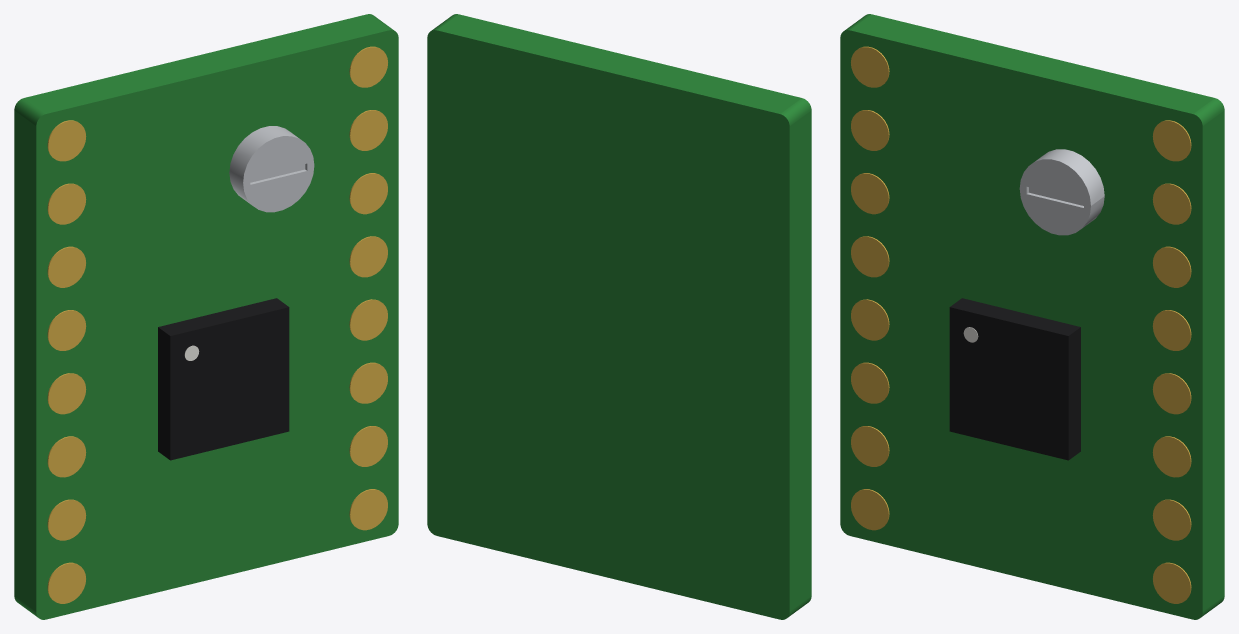
Rendered from pololu-1182-a4988.glb.
3 views of the same model, side by side, from view 1: azimuth 30°, elevation 25°; view 2: azimuth 150°, elevation 25°; view 3: azimuth 330°, elevation 25° (orthographic).
Parts seen in each view (by area): view 1: board, chip_3, trimmer_4, pads_2_5, pads_1_8, pads_2_3, pads_2_8, pads_1_3, pads_2_4, pads_1_2, pads_1_4, pads_1_7 (+7 smaller); view 2: board; view 3: board, chip_3, trimmer_4, pads_1_5, pads_1_3, pads_2_8, pads_1_8, pads_2_3, pads_1_4, pads_2_2, pads_2_4, pads_2_7 (+7 smaller).
Part boxes in pixels (bbox=[...]): board: bbox=[14, 14, 398, 619]; chip_3: bbox=[158, 298, 289, 460]; trimmer_4: bbox=[229, 126, 314, 212]; pads_2_5: bbox=[349, 236, 387, 277]; pads_1_8: bbox=[47, 120, 86, 161]; pads_2_3: bbox=[349, 362, 387, 403]; pads_2_8: bbox=[349, 46, 387, 87]; pads_1_3: bbox=[47, 436, 86, 477]; pads_2_4: bbox=[349, 299, 387, 340]; pads_1_2: bbox=[47, 499, 86, 540]; pads_1_4: bbox=[47, 373, 86, 414]; pads_1_7: bbox=[47, 183, 86, 224]; board: bbox=[427, 14, 811, 619]; board: bbox=[840, 14, 1224, 619]; chip_3: bbox=[949, 298, 1080, 460]; trimmer_4: bbox=[1019, 149, 1104, 235]; pads_1_5: bbox=[851, 236, 889, 277]; pads_1_3: bbox=[851, 362, 889, 403]; pads_2_8: bbox=[1152, 120, 1191, 161]; pads_1_8: bbox=[851, 46, 889, 87]; pads_2_3: bbox=[1152, 436, 1191, 477]; pads_1_4: bbox=[851, 299, 889, 340]; pads_2_2: bbox=[1152, 499, 1191, 540]; pads_2_4: bbox=[1152, 373, 1191, 414]; pads_2_7: bbox=[1152, 183, 1191, 224].
Size of the model in its own units: 15.24 by 20.32 by 2.6.
